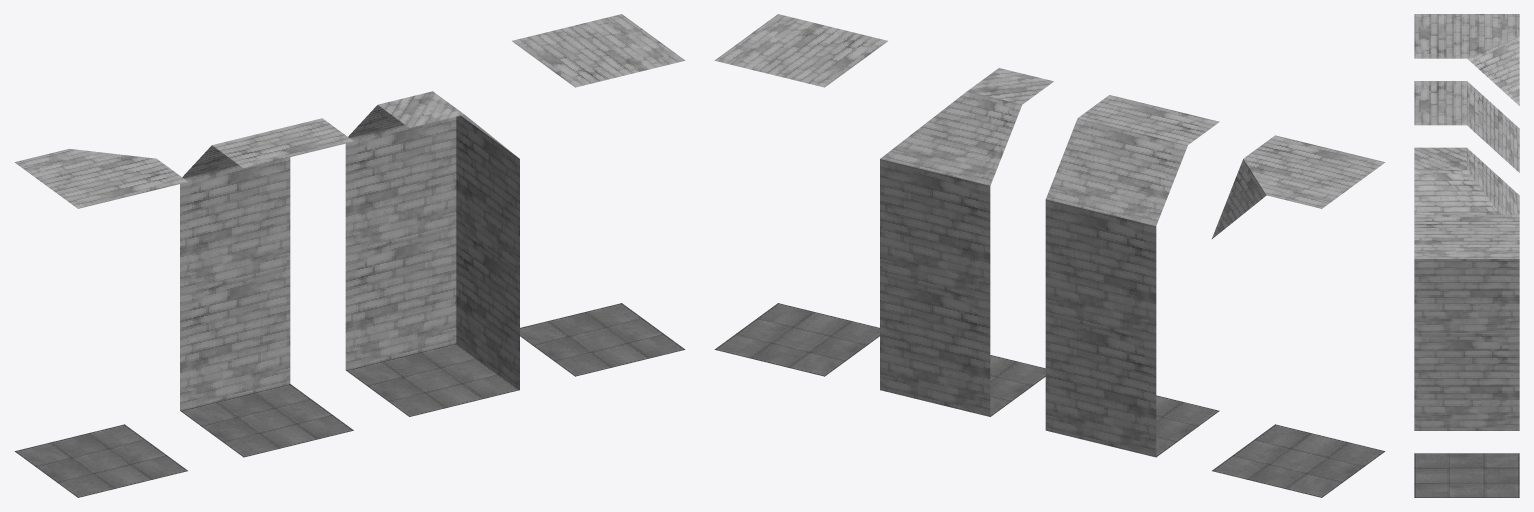
File: tiles_wall_01.glb
The picture shows the model from 3 angles, left to right: view 1: azimuth 30°, elevation 25°; view 2: azimuth 150°, elevation 25°; view 3: azimuth 270°, elevation 25°; orthographic projection. The views are drawn at different scales.
Parts seen in each view (by area): view 1: wall_01_angle, wall_01_general, wall_001_up/down, wall_01_connect; view 2: wall_01_general, wall_01_angle, wall_01_connect, wall_001_up/down; view 3: wall_01_angle, wall_001_up/down, wall_01_connect, wall_01_general.
Boxes of the visible parts, left/top/right/bottom form: wall_01_angle: left=345, top=91, right=519, bottom=416; wall_01_general: left=180, top=118, right=353, bottom=457; wall_001_up/down: left=512, top=14, right=685, bottom=376; wall_01_connect: left=14, top=148, right=187, bottom=497; wall_01_general: left=1045, top=95, right=1219, bottom=457; wall_01_angle: left=880, top=68, right=1053, bottom=416; wall_01_connect: left=1212, top=135, right=1385, bottom=497; wall_001_up/down: left=714, top=14, right=887, bottom=376; wall_01_angle: left=1414, top=147, right=1519, bottom=430; wall_001_up/down: left=1414, top=214, right=1519, bottom=497; wall_01_connect: left=1414, top=14, right=1519, bottom=105; wall_01_general: left=1414, top=81, right=1519, bottom=172.
Bounding box in the file's own units: 11 × 5 × 2.
1 material, 1 textured.
